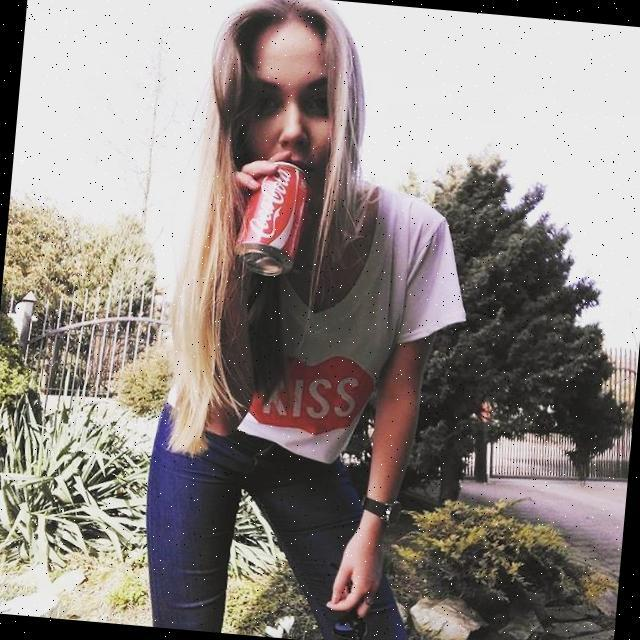coca-cola: (229, 157, 314, 280)
